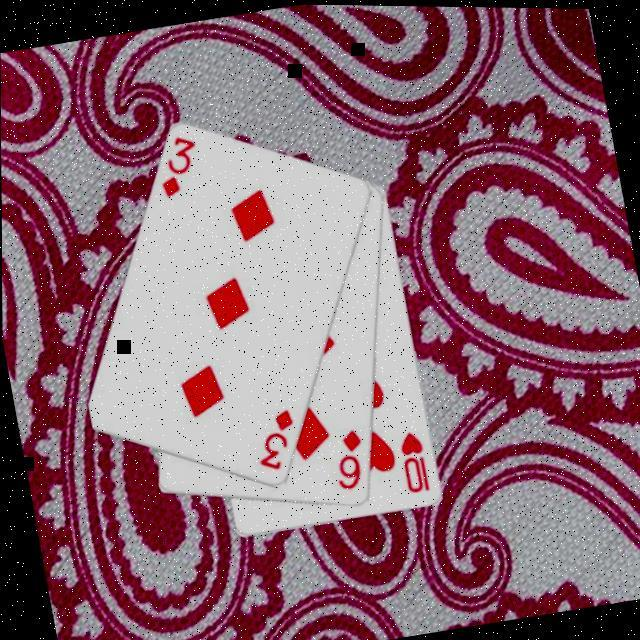10H: (395, 426, 434, 496)
3D: (246, 403, 305, 476), (150, 130, 209, 202)
6D: (326, 424, 373, 494)
